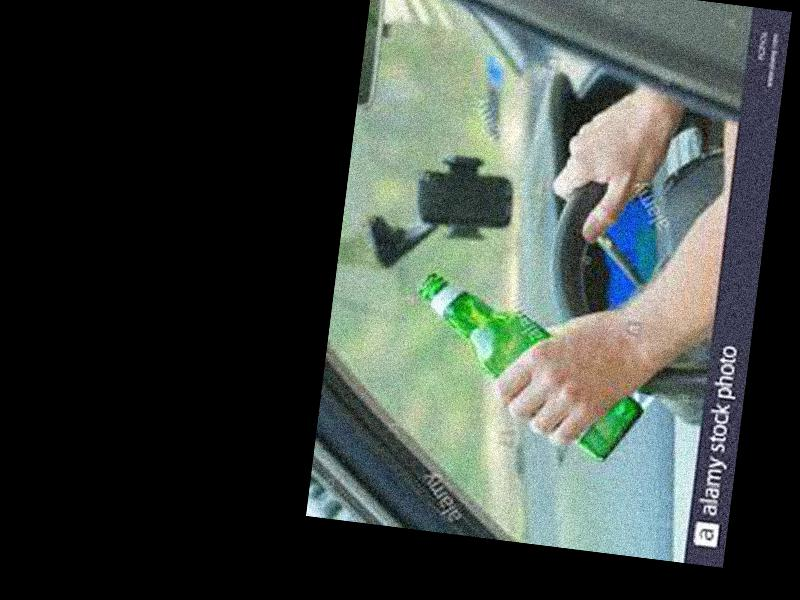Beer: (404, 273, 659, 460)
